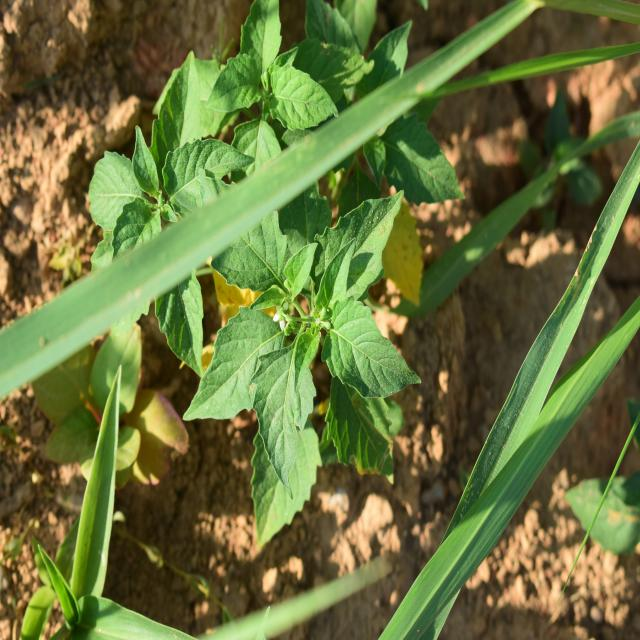Black_nightshade: (218, 241, 398, 503), (180, 8, 334, 134)
